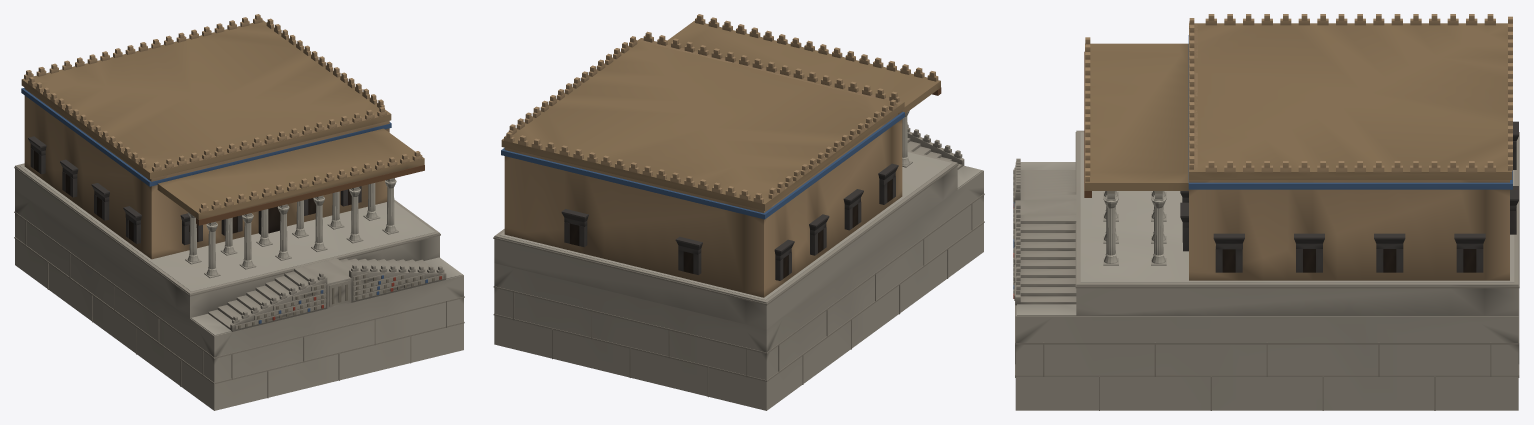
File: hadish.glb
The picture shows the model from 3 angles, left to right: view 1: azimuth 30°, elevation 25°; view 2: azimuth 150°, elevation 25°; view 3: azimuth 270°, elevation 25°; orthographic projection. The views are drawn at different scales.
Visible parts, largest first — view 1: p0_platform, p2_roof, p1_walls; view 2: p0_platform, p2_roof, p1_walls; view 3: p0_platform, p2_roof, p1_walls.
Part boxes in pixels (bbox=[...]): p0_platform: bbox=[14, 163, 464, 410]; p2_roof: bbox=[21, 14, 424, 225]; p1_walls: bbox=[24, 88, 398, 278]; p0_platform: bbox=[493, 124, 984, 410]; p2_roof: bbox=[501, 14, 941, 219]; p1_walls: bbox=[504, 110, 912, 297]; p0_platform: bbox=[1013, 130, 1519, 410]; p2_roof: bbox=[1084, 14, 1512, 197]; p1_walls: bbox=[1103, 121, 1518, 280].
Size of the model in its own units: 42.2 by 31.19 by 58.36.
